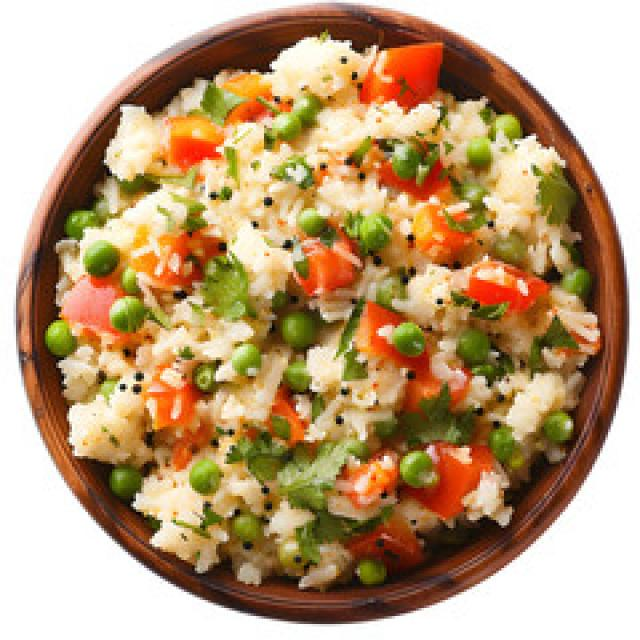UPMA: (45, 35, 600, 589)
